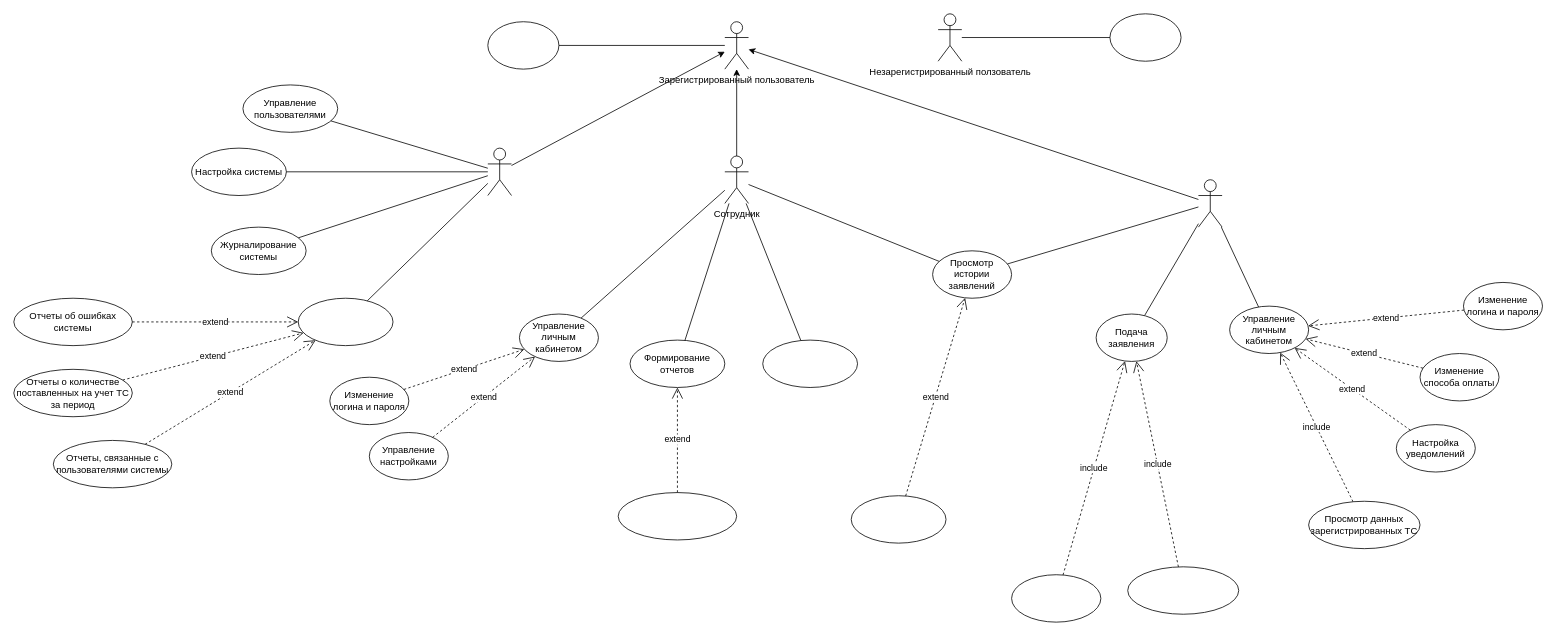
Some shapes in this 1556 by 636 pixel diagram are drawn without their labels. The shapes that lost their labels are listed below. From the top down, each one's centre as x and y in pixels, then its label:
At (x=523, y=45): "Авторизация".
At (x=1145, y=37): "Регистрация".
At (x=499, y=171): "Администратор".
At (x=1210, y=203): "Клиент".
At (x=345, y=321): "Получение отчетов".
At (x=810, y=363): "Управление заявлениями клиентов".
At (x=677, y=516): "Отчеты о количестве зарегистрированных".
At (x=898, y=519): "Формирование отчета историй заявлений".
At (x=1056, y=598): "Оплата госпошлины".
At (x=1183, y=590): "Прикрепление необходимых документов".
